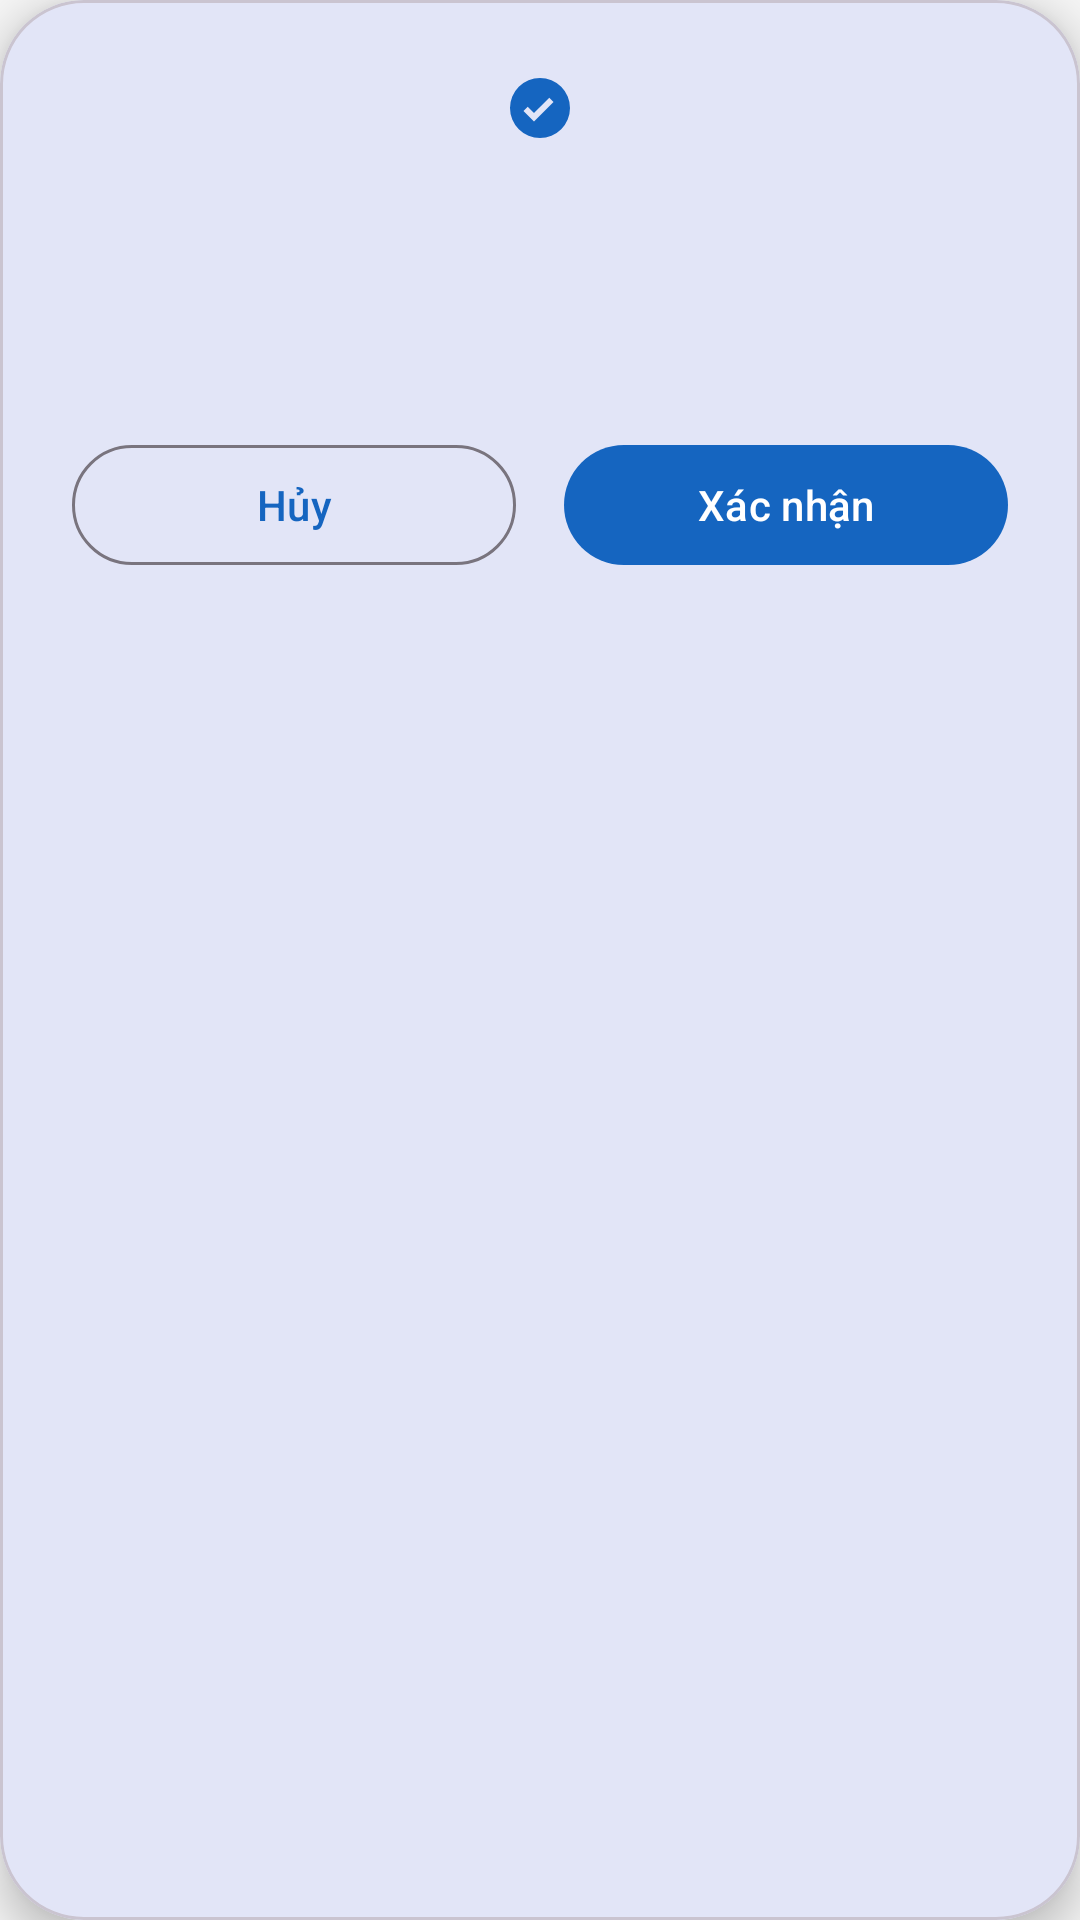

Icons on this 1080 x 1920 Android screen, each with the point to tap as point (x, y):
check circle: point (540, 108)
